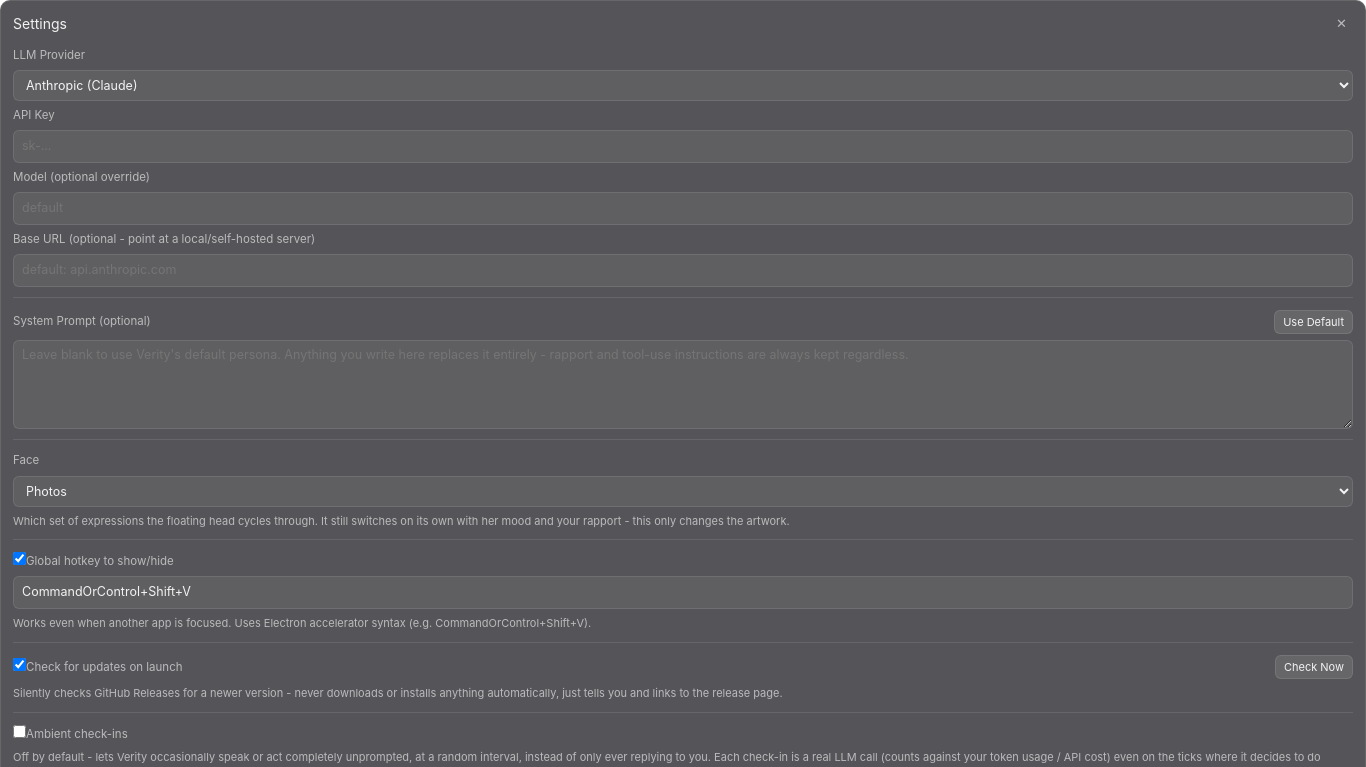
Test: SettingsPanel › provider section › shows the local-server hint only for openai
Expected: the heading "Settings" is shown, left=13, top=13, right=67, bottom=34
Expected: the text "usually don't check" is not shown
Select "OpenAI" in the 1st dropdown at [683, 85], box left=13, top=70, right=1353, bottom=101
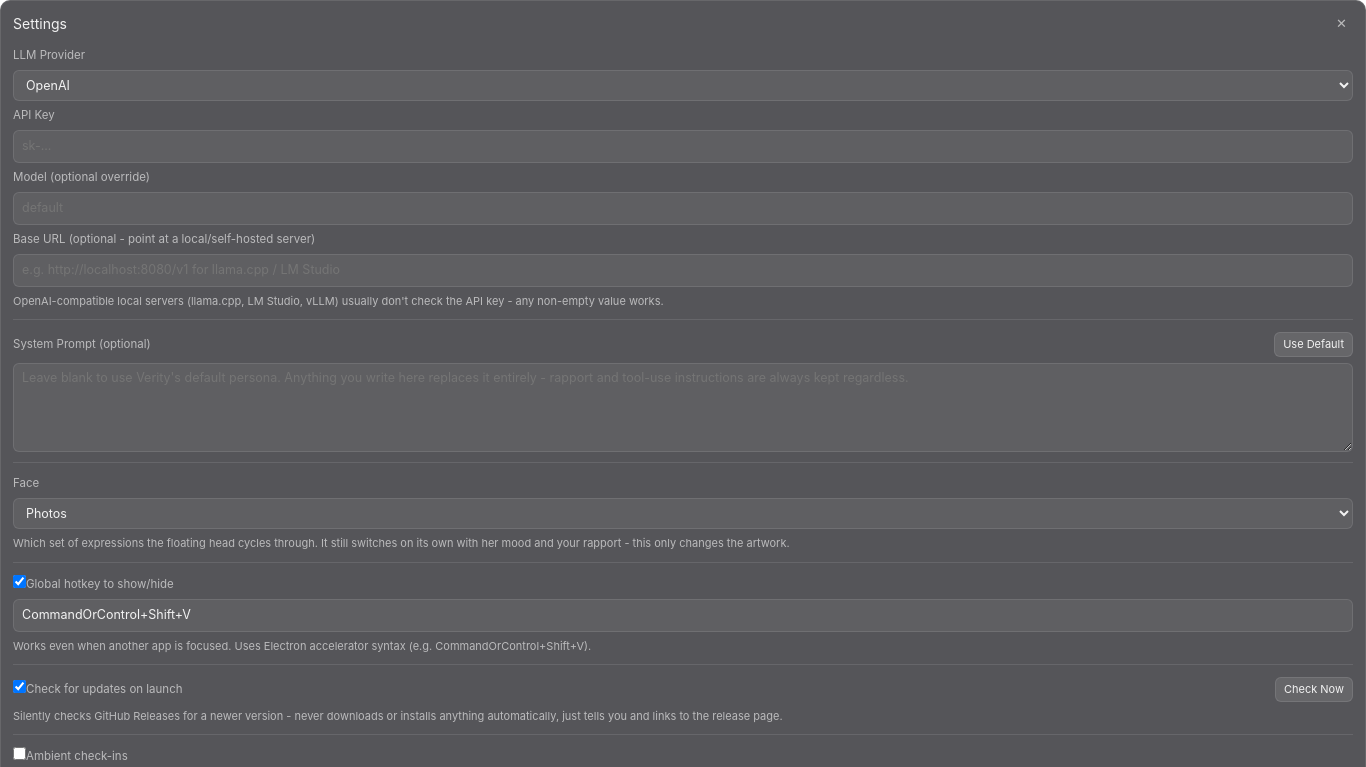
Result: the text "usually don't check" is shown at left=13, top=294, right=664, bottom=308
